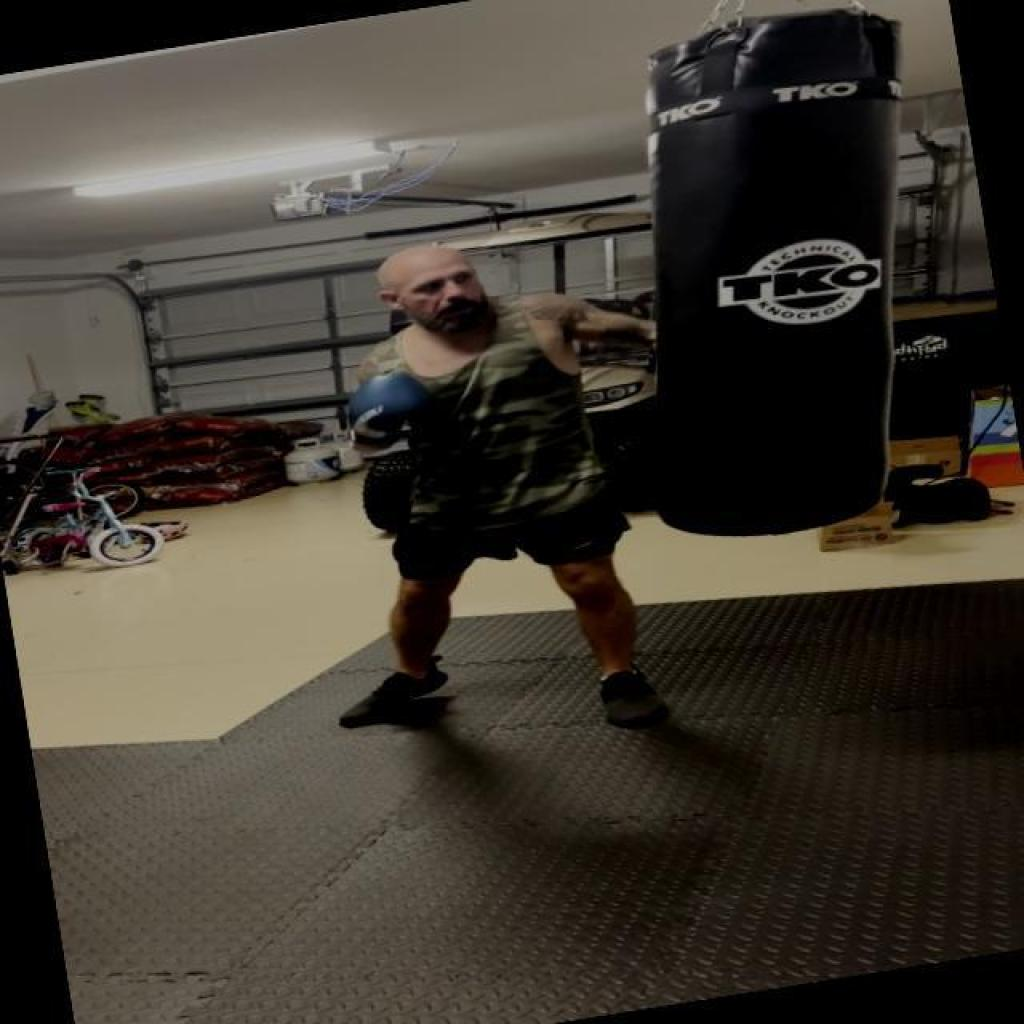bag: (622, 2, 926, 544)
hook: (326, 172, 738, 482)
